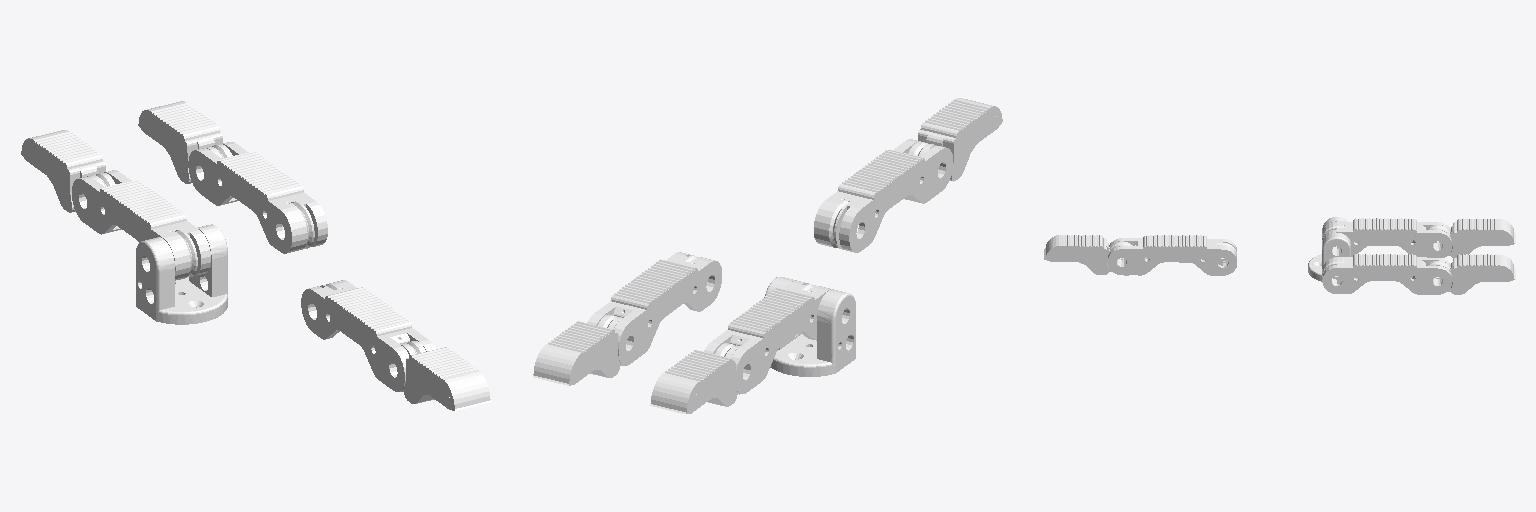
robot.urdf — o:
<?xml version="1.0" encoding="utf-8"?>
<!-- This URDF was automatically created by SolidWorks to URDF Exporter! Originally created by Stephen Brawner (brawner@gmail.com) 
     Commit Version: 1.6.0-4-g7f85cfe  Build Version: 1.6.7995.38578
     For more information, please see http://wiki.ros.org/sw_urdf_exporter -->
<robot
  name="o">
  <link
    name="base_link">
    <inertial>
      <origin
        xyz="-0.000208088156302992 -0.0113152813417986 -0.0285269378889407"
        rpy="0 0 0" />
      <mass
        value="0.600568183879393" />
      <inertia
        ixx="0.000392627132887999"
        ixy="2.39851650616864E-08"
        ixz="-5.04666783560814E-06"
        iyy="0.000304423127363071"
        iyz="-3.66035788619403E-07"
        izz="0.000620685398741854" />
    </inertial>
    <visual>
      <origin
        xyz="0 0 0"
        rpy="0 0 0" />
      <geometry>
        <mesh
          filename="package://hand_o_pp/meshes/base_link.STL" />
      </geometry>
      <material
        name="">
        <color
          rgba="1 1 1 1" />
      </material>
    </visual>
    <collision>
      <origin
        xyz="0 0 0"
        rpy="0 0 0" />
      <geometry>
        <mesh
          filename="package://hand_o_pp/meshes/base_link.STL" />
      </geometry>
    </collision>
  </link>
  <link
    name="l_0">
    <inertial>
      <origin
        xyz="0.00014602410146199 0.00301622219270444 -0.0312884749946977"
        rpy="0 0 0" />
      <mass
        value="0.0127359728772038" />
      <inertia
        ixx="6.48879444241418E-06"
        ixy="-5.4427065883909E-10"
        ixz="1.34078110616296E-08"
        iyy="6.58827025757639E-06"
        iyz="-1.2508189446148E-07"
        izz="5.98091648907763E-07" />
    </inertial>
    <visual>
      <origin
        xyz="0 0 0"
        rpy="0 0 0" />
      <geometry>
        <mesh
          filename="package://hand_o_pp/meshes/l_0.STL" />
      </geometry>
      <material
        name="">
        <color
          rgba="1 1 1 1" />
      </material>
    </visual>
    <collision>
      <origin
        xyz="0 0 0"
        rpy="0 0 0" />
      <geometry>
        <mesh
          filename="package://hand_o_pp/meshes/l_0.STL" />
      </geometry>
    </collision>
  </link>
  <joint
    name="l_0"
    type="revolute">
    <origin
      xyz="0 -0.04 0.023052"
      rpy="1.5758 0 -3.1416" />
    <parent
      link="base_link" />
    <child
      link="l_0" />
    <axis
      xyz="1 0 0" />
    <limit
      lower="0"
      upper="0"
      effort="0"
      velocity="0" />
  </joint>
  <link
    name="l_1">
    <inertial>
      <origin
        xyz="2.50042628274631E-05 0.00268649799485499 -0.0205753327112483"
        rpy="0 0 0" />
      <mass
        value="0.0102265941871959" />
      <inertia
        ixx="1.90902957688761E-06"
        ixy="-9.46104079928579E-14"
        ixz="-3.38246272614455E-13"
        iyy="1.92012472821013E-06"
        iyz="1.93426921000731E-07"
        izz="3.59909663546497E-07" />
    </inertial>
    <visual>
      <origin
        xyz="0 0 0"
        rpy="0 0 0" />
      <geometry>
        <mesh
          filename="package://hand_o_pp/meshes/l_1.STL" />
      </geometry>
      <material
        name="">
        <color
          rgba="1 1 1 1" />
      </material>
    </visual>
    <collision>
      <origin
        xyz="0 0 0"
        rpy="0 0 0" />
      <geometry>
        <mesh
          filename="package://hand_o_pp/meshes/l_1.STL" />
      </geometry>
    </collision>
  </link>
  <joint
    name="l_1"
    type="revolute">
    <origin
      xyz="0 0 -0.0625"
      rpy="0 0 0" />
    <parent
      link="l_0" />
    <child
      link="l_1" />
    <axis
      xyz="1 0 0" />
    <limit
      lower="0"
      upper="0"
      effort="0"
      velocity="0" />
  </joint>
  <link
    name="r1_base">
    <inertial>
      <origin
        xyz="9.69346478085775E-12 0.0111713682677283 -0.000117062331333958"
        rpy="0 0 0" />
      <mass
        value="0.00950838968910675" />
      <inertia
        ixx="1.26520183063412E-06"
        ixy="5.21132953142867E-16"
        ixz="3.06301039759566E-14"
        iyy="1.61983466263706E-06"
        iyz="-3.49419005440345E-09"
        izz="1.87739677666578E-06" />
    </inertial>
    <visual>
      <origin
        xyz="0 0 0"
        rpy="0 0 0" />
      <geometry>
        <mesh
          filename="package://hand_o_pp/meshes/r1_base.STL" />
      </geometry>
      <material
        name="">
        <color
          rgba="1 1 1 1" />
      </material>
    </visual>
    <collision>
      <origin
        xyz="0 0 0"
        rpy="0 0 0" />
      <geometry>
        <mesh
          filename="package://hand_o_pp/meshes/r1_base.STL" />
      </geometry>
    </collision>
  </link>
  <joint
    name="r1_base"
    type="revolute">
    <origin
      xyz="0.026 0.030397 0.0013166"
      rpy="1.5708 0 0" />
    <parent
      link="base_link" />
    <child
      link="r1_base" />
    <axis
      xyz="0 1 0" />
    <limit
      lower="0"
      upper="0"
      effort="0"
      velocity="0" />
  </joint>
  <link
    name="r1_0">
    <inertial>
      <origin
        xyz="0.000146024101461906 0.00286062752465908 -0.0313030840968546"
        rpy="0 0 0" />
      <mass
        value="0.0127359728772038" />
      <inertia
        ixx="6.48879444241417E-06"
        ixy="-4.7760411253862E-10"
        ixz="1.34103513125534E-08"
        iyy="6.58687846485207E-06"
        iyz="-1.54856805597865E-07"
        izz="5.99483441632079E-07" />
    </inertial>
    <visual>
      <origin
        xyz="0 0 0"
        rpy="0 0 0" />
      <geometry>
        <mesh
          filename="package://hand_o_pp/meshes/r1_0.STL" />
      </geometry>
      <material
        name="">
        <color
          rgba="1 1 1 1" />
      </material>
    </visual>
    <collision>
      <origin
        xyz="0 0 0"
        rpy="0 0 0" />
      <geometry>
        <mesh
          filename="package://hand_o_pp/meshes/r1_0.STL" />
      </geometry>
    </collision>
  </link>
  <joint
    name="r1_0"
    type="revolute">
    <origin
      xyz="0 0.021386 0"
      rpy="0 0 0" />
    <parent
      link="r1_base" />
    <child
      link="r1_0" />
    <axis
      xyz="1 0 0" />
    <limit
      lower="0"
      upper="0"
      effort="0"
      velocity="0" />
  </joint>
  <link
    name="r1_1">
    <inertial>
      <origin
        xyz="2.5004246092121E-05 0.00268649792021278 -0.0205753324187053"
        rpy="0 0 0" />
      <mass
        value="0.0102265945315243" />
      <inertia
        ixx="1.90902959224057E-06"
        ixy="-9.50813864916411E-14"
        ixz="-3.37447300401168E-13"
        iyy="1.92012474131907E-06"
        iyz="1.93426921902014E-07"
        izz="3.59909665777183E-07" />
    </inertial>
    <visual>
      <origin
        xyz="0 0 0"
        rpy="0 0 0" />
      <geometry>
        <mesh
          filename="package://hand_o_pp/meshes/r1_1.STL" />
      </geometry>
      <material
        name="">
        <color
          rgba="1 1 1 1" />
      </material>
    </visual>
    <collision>
      <origin
        xyz="0 0 0"
        rpy="0 0 0" />
      <geometry>
        <mesh
          filename="package://hand_o_pp/meshes/r1_1.STL" />
      </geometry>
    </collision>
  </link>
  <joint
    name="r1_1"
    type="revolute">
    <origin
      xyz="0 -0.00031073 -0.062499"
      rpy="-0.0049717 0 0" />
    <parent
      link="r1_0" />
    <child
      link="r1_1" />
    <axis
      xyz="1 0 0" />
    <limit
      lower="0"
      upper="0"
      effort="0"
      velocity="0" />
  </joint>
  <link
    name="r2_base">
    <inertial>
      <origin
        xyz="9.6934682503047E-12 0.0111713682677283 -0.000117062331333948"
        rpy="0 0 0" />
      <mass
        value="0.00950838968910676" />
      <inertia
        ixx="1.26520183063412E-06"
        ixy="5.21132946181347E-16"
        ixz="3.06301042013997E-14"
        iyy="1.61983466263706E-06"
        iyz="-3.49419005440351E-09"
        izz="1.87739677666578E-06" />
    </inertial>
    <visual>
      <origin
        xyz="0 0 0"
        rpy="0 0 0" />
      <geometry>
        <mesh
          filename="package://hand_o_pp/meshes/r2_base.STL" />
      </geometry>
      <material
        name="">
        <color
          rgba="1 1 1 1" />
      </material>
    </visual>
    <collision>
      <origin
        xyz="0 0 0"
        rpy="0 0 0" />
      <geometry>
        <mesh
          filename="package://hand_o_pp/meshes/r2_base.STL" />
      </geometry>
    </collision>
  </link>
  <joint
    name="r2_base"
    type="revolute">
    <origin
      xyz="-0.026 0.030397 0.0013166"
      rpy="1.5708 0 0" />
    <parent
      link="base_link" />
    <child
      link="r2_base" />
    <axis
      xyz="0 1 0" />
    <limit
      lower="0"
      upper="0"
      effort="0"
      velocity="0" />
  </joint>
  <link
    name="r2_0">
    <inertial>
      <origin
        xyz="-3.975898537973E-06 0.00286062752465906 -0.0313030840968546"
        rpy="0 0 0" />
      <mass
        value="0.0127359728772038" />
      <inertia
        ixx="6.48879444241417E-06"
        ixy="-4.77604112538539E-10"
        ixz="1.34103513125537E-08"
        iyy="6.58687846485207E-06"
        iyz="-1.54856805597866E-07"
        izz="5.99483441632079E-07" />
    </inertial>
    <visual>
      <origin
        xyz="0 0 0"
        rpy="0 0 0" />
      <geometry>
        <mesh
          filename="package://hand_o_pp/meshes/r2_0.STL" />
      </geometry>
      <material
        name="">
        <color
          rgba="1 1 1 1" />
      </material>
    </visual>
    <collision>
      <origin
        xyz="0 0 0"
        rpy="0 0 0" />
      <geometry>
        <mesh
          filename="package://hand_o_pp/meshes/r2_0.STL" />
      </geometry>
    </collision>
  </link>
  <joint
    name="r2_0"
    type="revolute">
    <origin
      xyz="0 0.021386 0"
      rpy="0 0 0" />
    <parent
      link="r2_base" />
    <child
      link="r2_0" />
    <axis
      xyz="1 0 0" />
    <limit
      lower="0"
      upper="0"
      effort="0"
      velocity="0" />
  </joint>
  <link
    name="r2_1">
    <inertial>
      <origin
        xyz="4.2460921896581E-09 0.00268649792021268 -0.0205753324187053"
        rpy="0 0 0" />
      <mass
        value="0.0102265945315243" />
      <inertia
        ixx="1.90902959224057E-06"
        ixy="-9.5081386432685E-14"
        ixz="-3.37447301274811E-13"
        iyy="1.92012474131907E-06"
        iyz="1.93426921902012E-07"
        izz="3.59909665777182E-07" />
    </inertial>
    <visual>
      <origin
        xyz="0 0 0"
        rpy="0 0 0" />
      <geometry>
        <mesh
          filename="package://hand_o_pp/meshes/r2_1.STL" />
      </geometry>
      <material
        name="">
        <color
          rgba="1 1 1 1" />
      </material>
    </visual>
    <collision>
      <origin
        xyz="0 0 0"
        rpy="0 0 0" />
      <geometry>
        <mesh
          filename="package://hand_o_pp/meshes/r2_1.STL" />
      </geometry>
    </collision>
  </link>
  <joint
    name="r2_1"
    type="revolute">
    <origin
      xyz="-0.000325 -0.00031073 -0.062499"
      rpy="-0.0049717 0 0" />
    <parent
      link="r2_0" />
    <child
      link="r2_1" />
    <axis
      xyz="1 0 0" />
    <limit
      lower="0"
      upper="0"
      effort="0"
      velocity="0" />
  </joint>
</robot>

--- What the picture shows (computed from the rendered views, not written in the file) ---
The picture shows the robot from 3 angles, left to right: view 1: azimuth 30°, elevation 25°; view 2: azimuth 150°, elevation 25°; view 3: azimuth 270°, elevation 25°; orthographic projection.
Robot: o — 9 links, 8 joints (8 revolute); root link base_link; default pose: every joint at zero.
Visible links, largest first — view 1: r1_0, r2_0, l_0, r2_base, l_1, r2_1, r1_1; view 2: l_0, r1_0, r2_0, r2_base, r2_1, r1_1, l_1; view 3: r1_0, l_0, r2_0, r1_1, l_1, r2_1, r2_base.
Link boxes in pixels (left/top/right/bottom): r1_0: left=188, top=142, right=327, bottom=253; r2_0: left=72, top=170, right=210, bottom=280; l_0: left=301, top=280, right=435, bottom=391; r2_base: left=136, top=224, right=227, bottom=324; l_1: left=400, top=341, right=490, bottom=410; r2_1: left=21, top=130, right=115, bottom=212; r1_1: left=138, top=101, right=232, bottom=183; l_0: left=814, top=139, right=952, bottom=252; r1_0: left=587, top=252, right=721, bottom=365; r2_0: left=704, top=281, right=833, bottom=393; r2_base: left=764, top=277, right=855, bottom=376; r2_1: left=650, top=343, right=739, bottom=413; r1_1: left=533, top=314, right=622, bottom=385; l_1: left=908, top=98, right=1002, bottom=181; r1_0: left=1322, top=254, right=1451, bottom=294; l_0: left=1108, top=235, right=1236, bottom=275; r2_0: left=1322, top=218, right=1451, bottom=257; r1_1: left=1427, top=254, right=1515, bottom=294; l_1: left=1044, top=235, right=1132, bottom=275; r2_1: left=1427, top=218, right=1515, bottom=258; r2_base: left=1308, top=217, right=1350, bottom=281.
Bounding box of the posed robot: 0.0762 × 0.2913 × 0.0335 m (x, y, z).
Meshes: 9 distinct files referenced, 7 mesh visuals loaded (7 binary STL); not drawn: 2 (reference not matched to a file when rendering).
